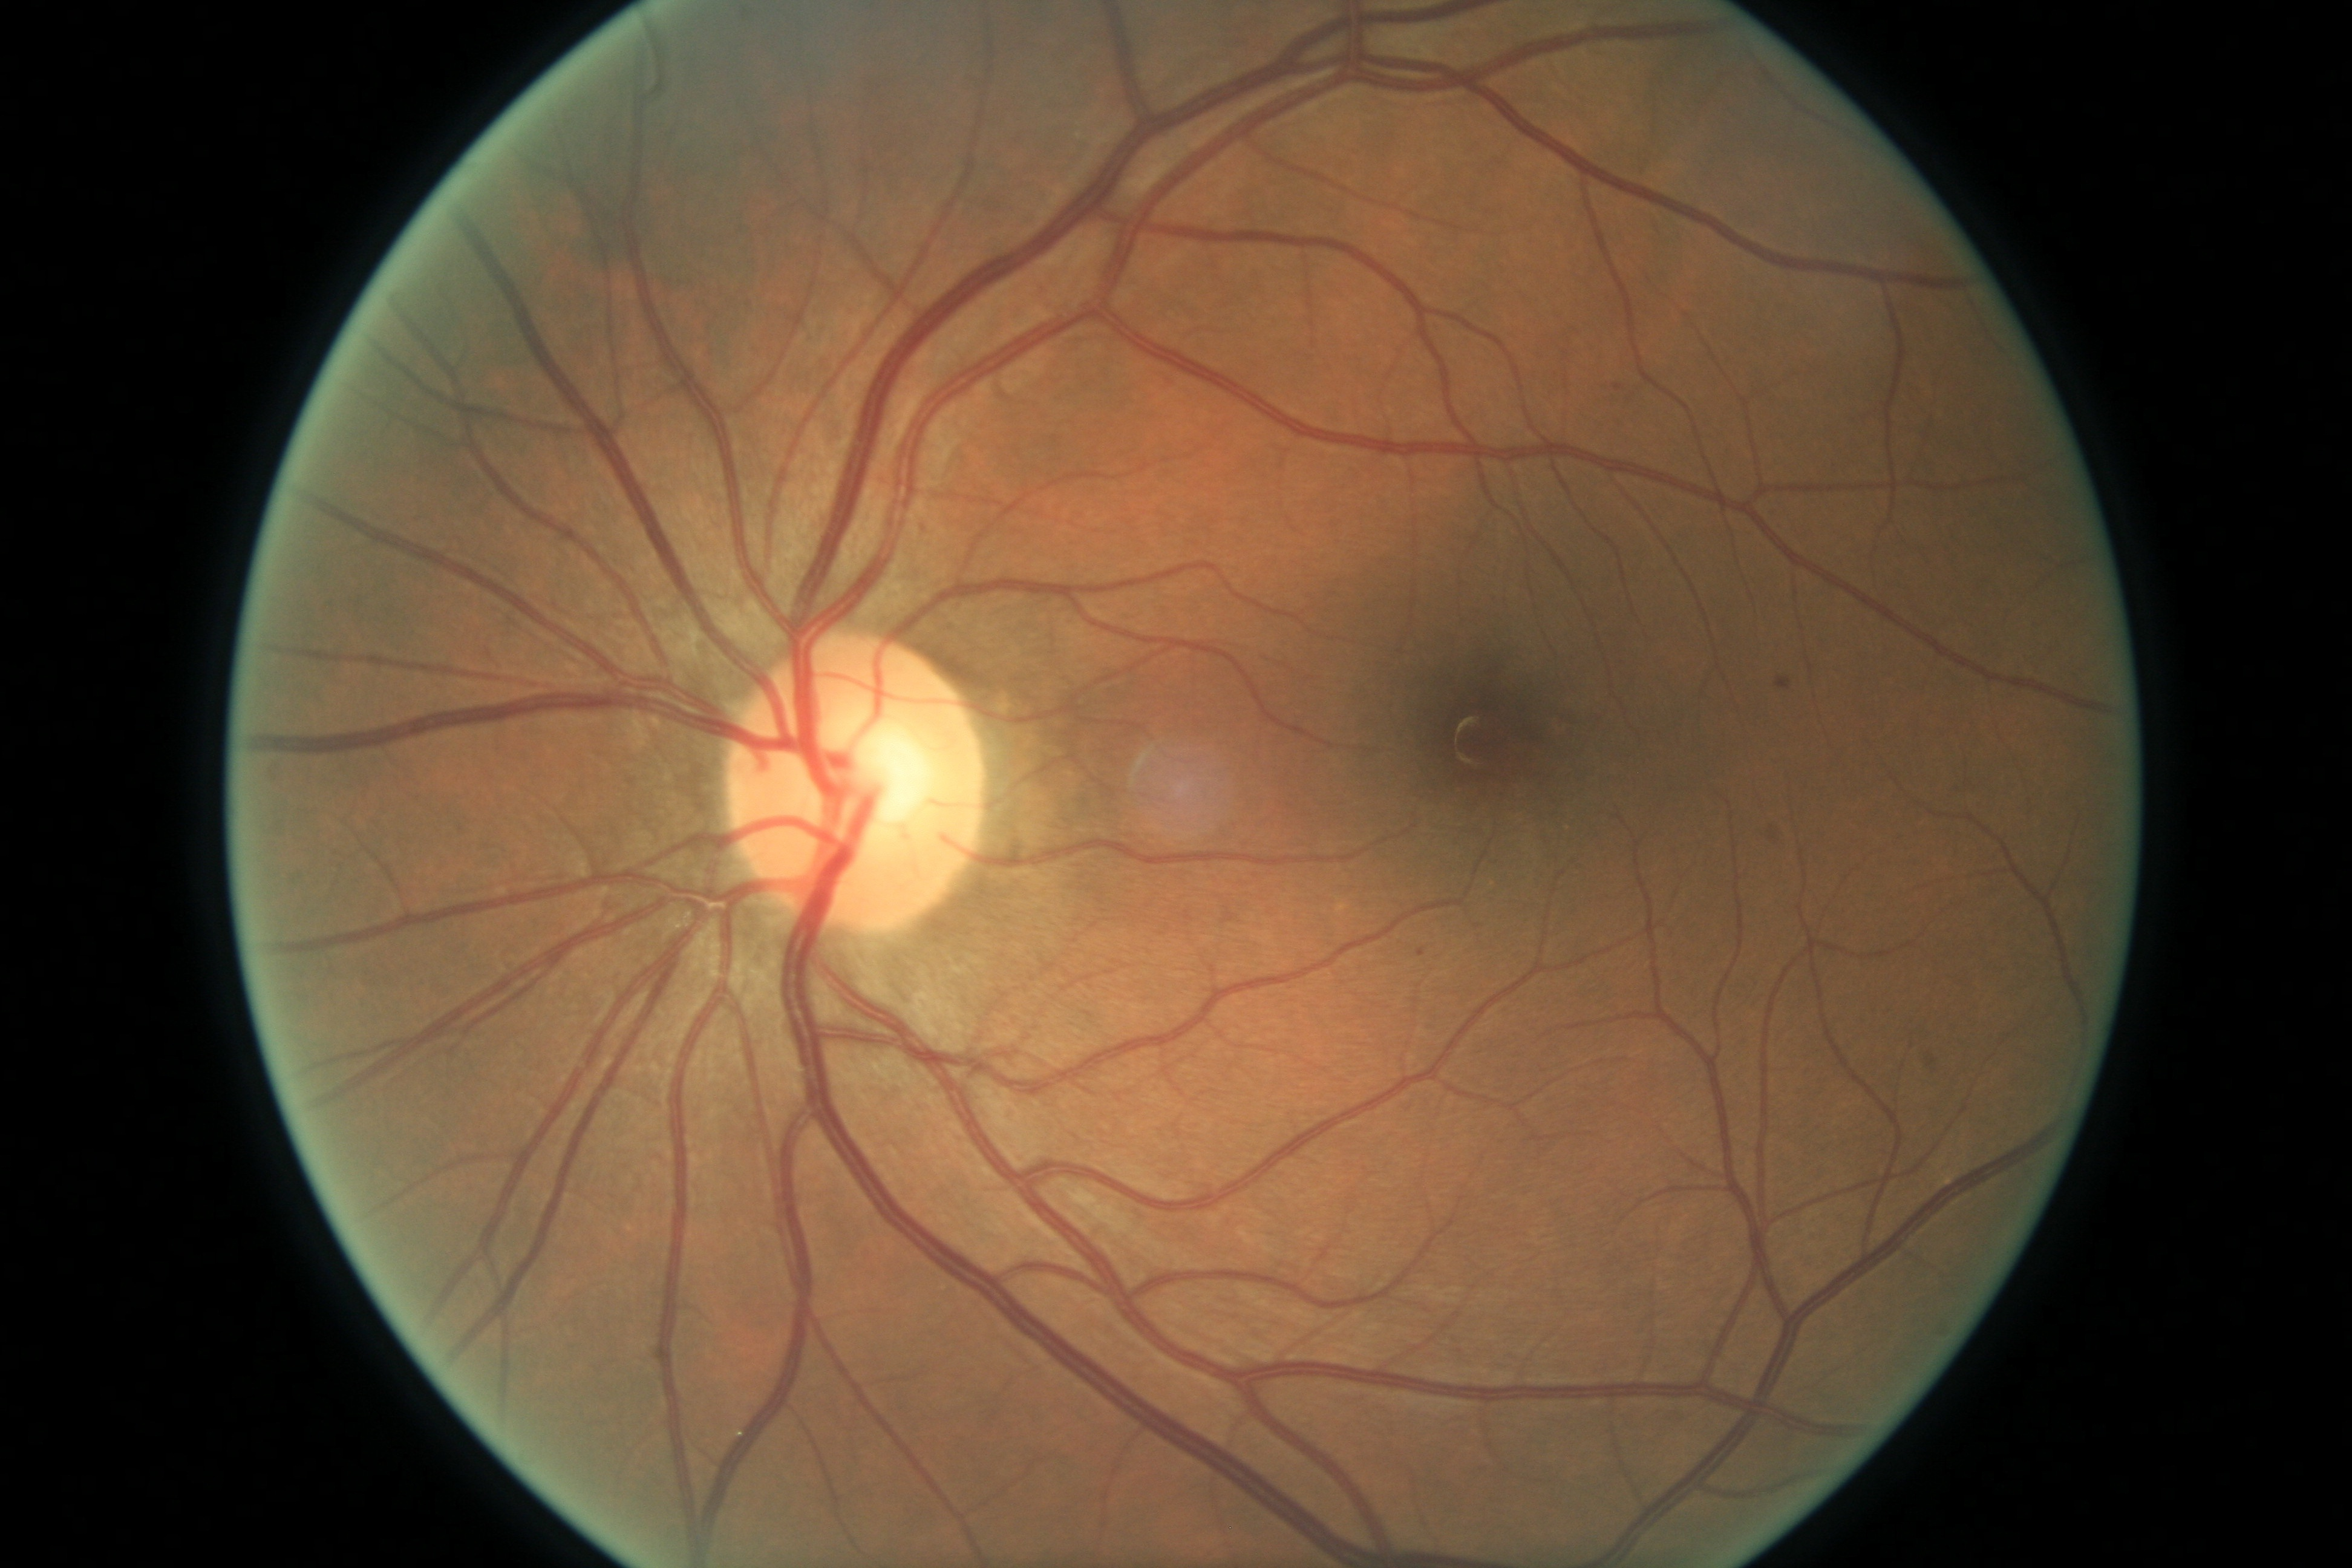Fovea: (1386, 634, 1603, 849)
OD: (709, 616, 996, 948)
